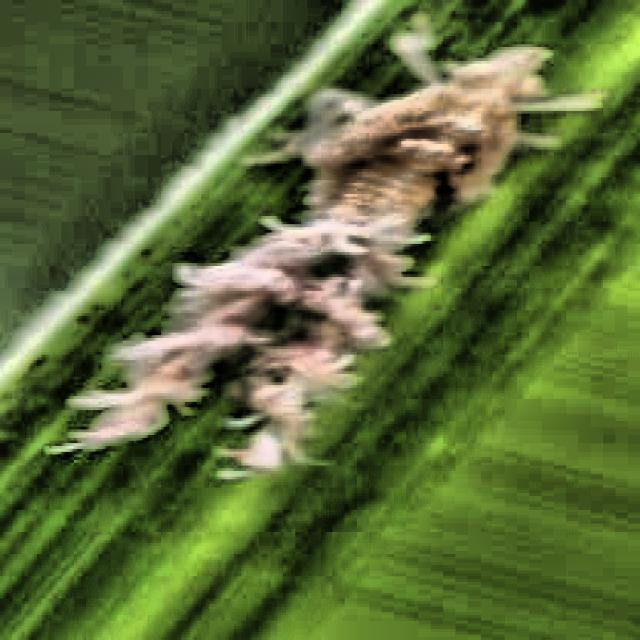Pyrilla-perpusilla: (141, 10, 579, 462)
